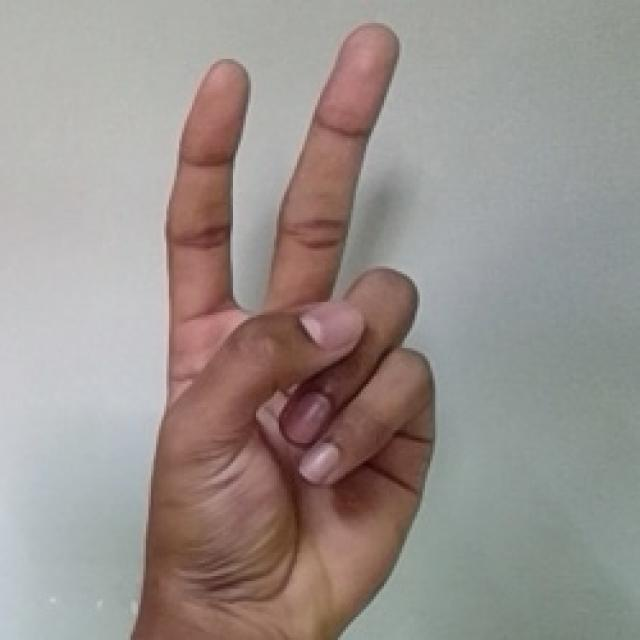Numeric-2: (165, 19, 435, 605)
